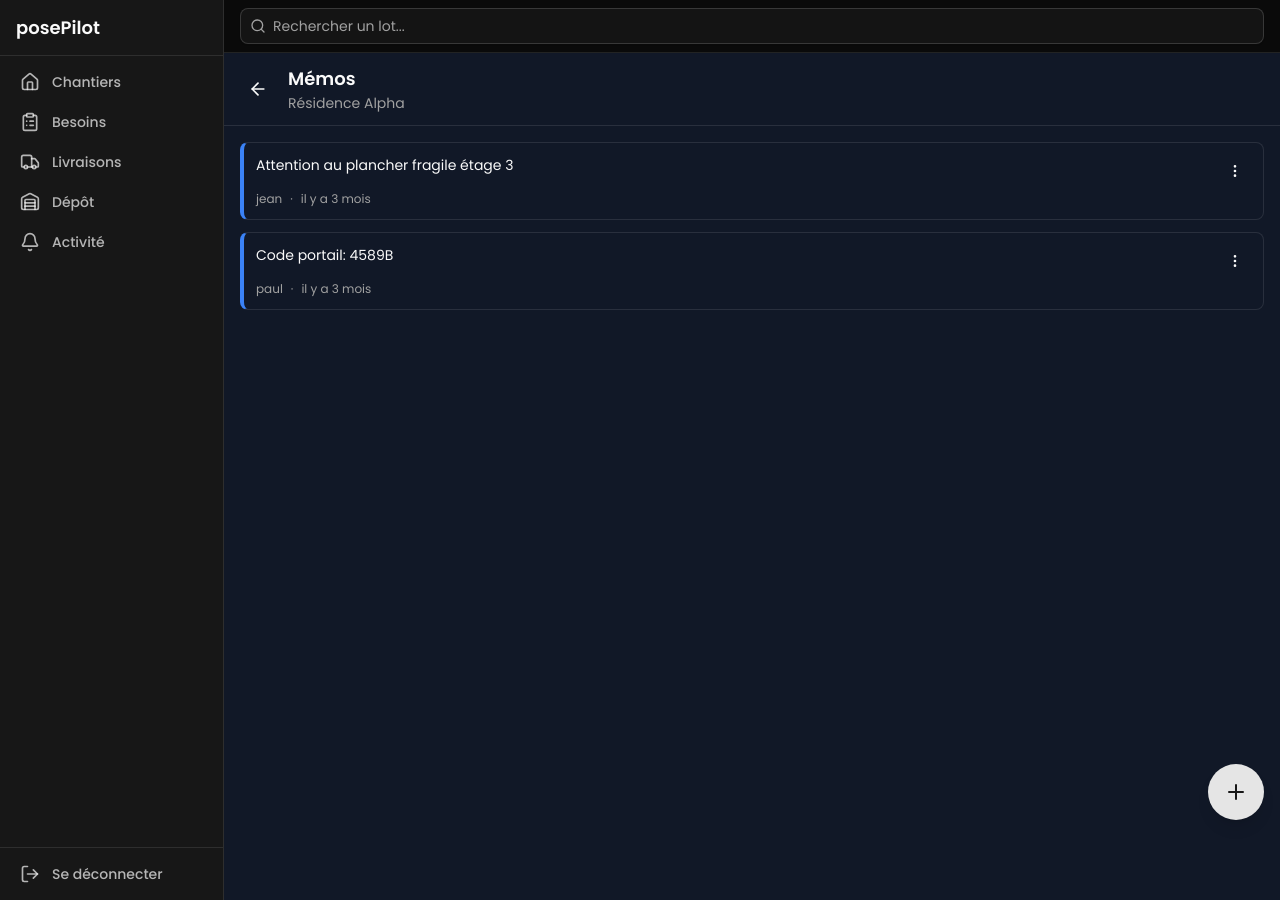
Scenario: MemosPage › opens delete confirmation dialog
expect the text "Attention au plancher fragile étage 3" is shown: met, box [256,155,514,175]
Note: Open dropdown on first memo card
Click the button named "Options du mémo" in the row of "Attention au plancher fragile étage 3" at (1235,171), box [1219,155,1251,187]
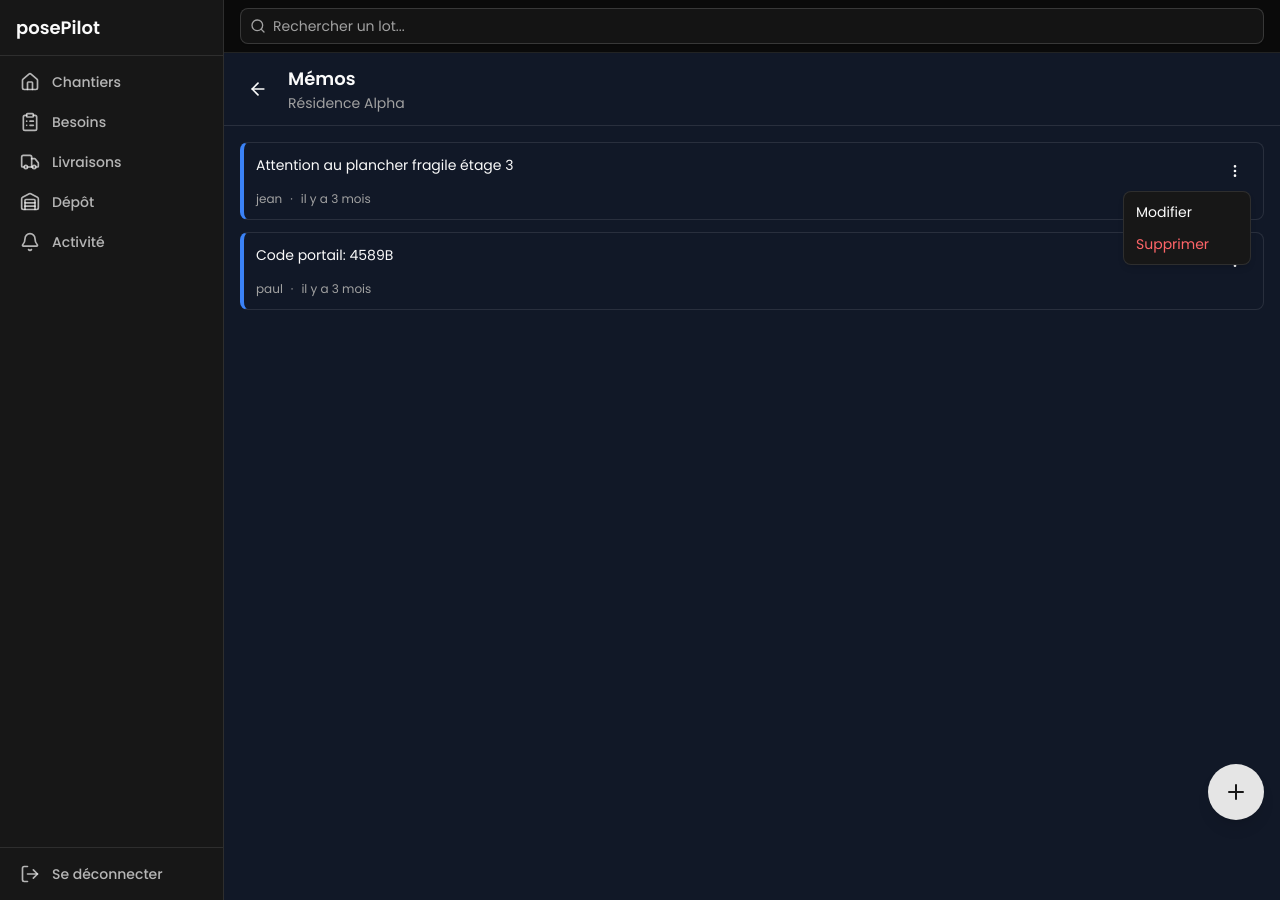
Click the menu item "Supprimer" at (1173,244), box [1136,234,1209,254]
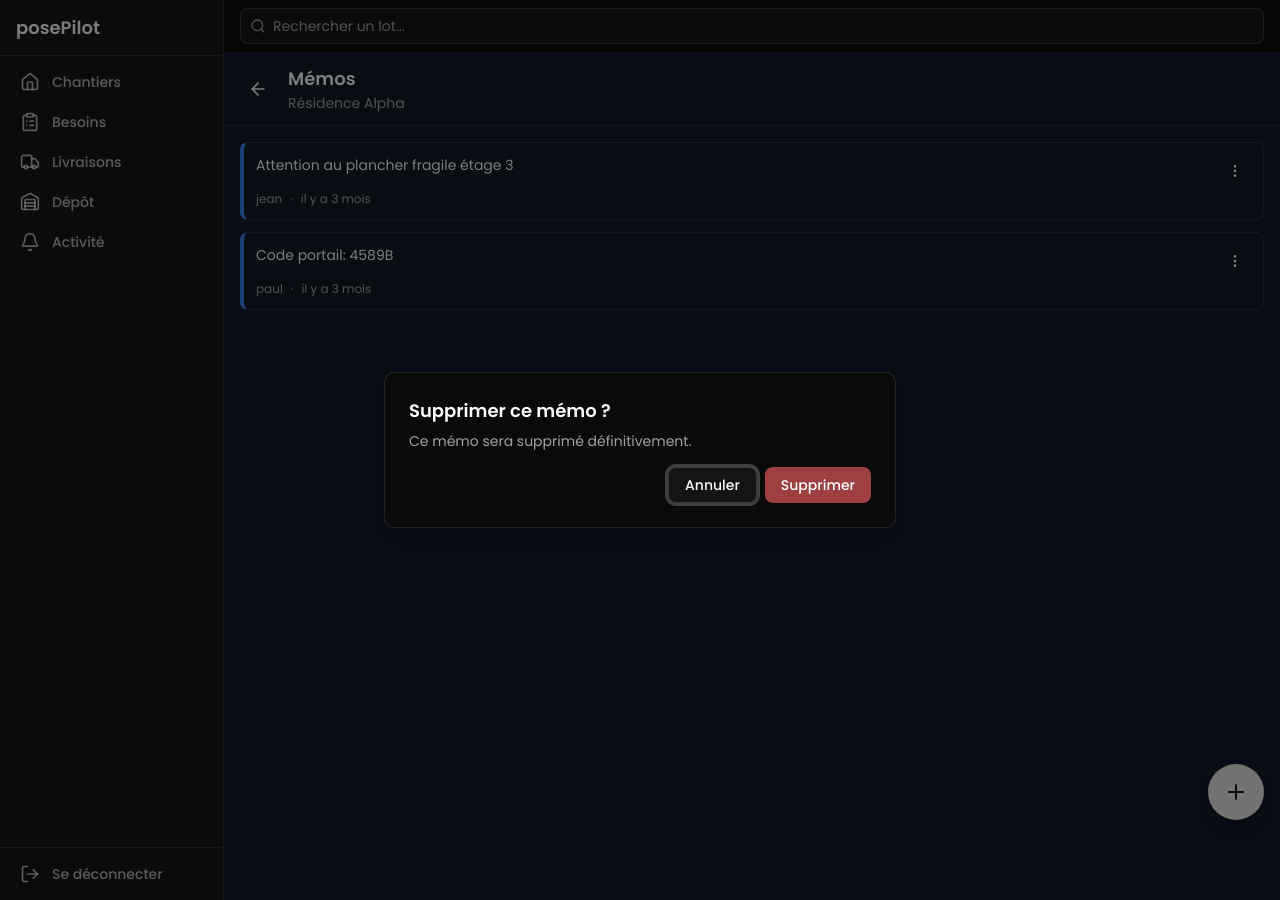
expect the dialog is shown: met, box [384,372,896,528]
expect the heading "Supprimer ce mémo ?" is shown: met, box [409,397,611,425]
